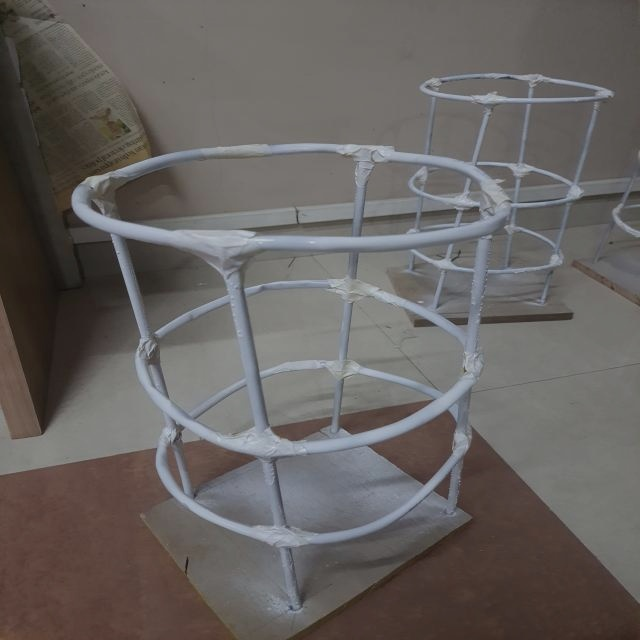silo: (59, 141, 483, 640), (396, 71, 608, 329), (586, 127, 640, 305)
